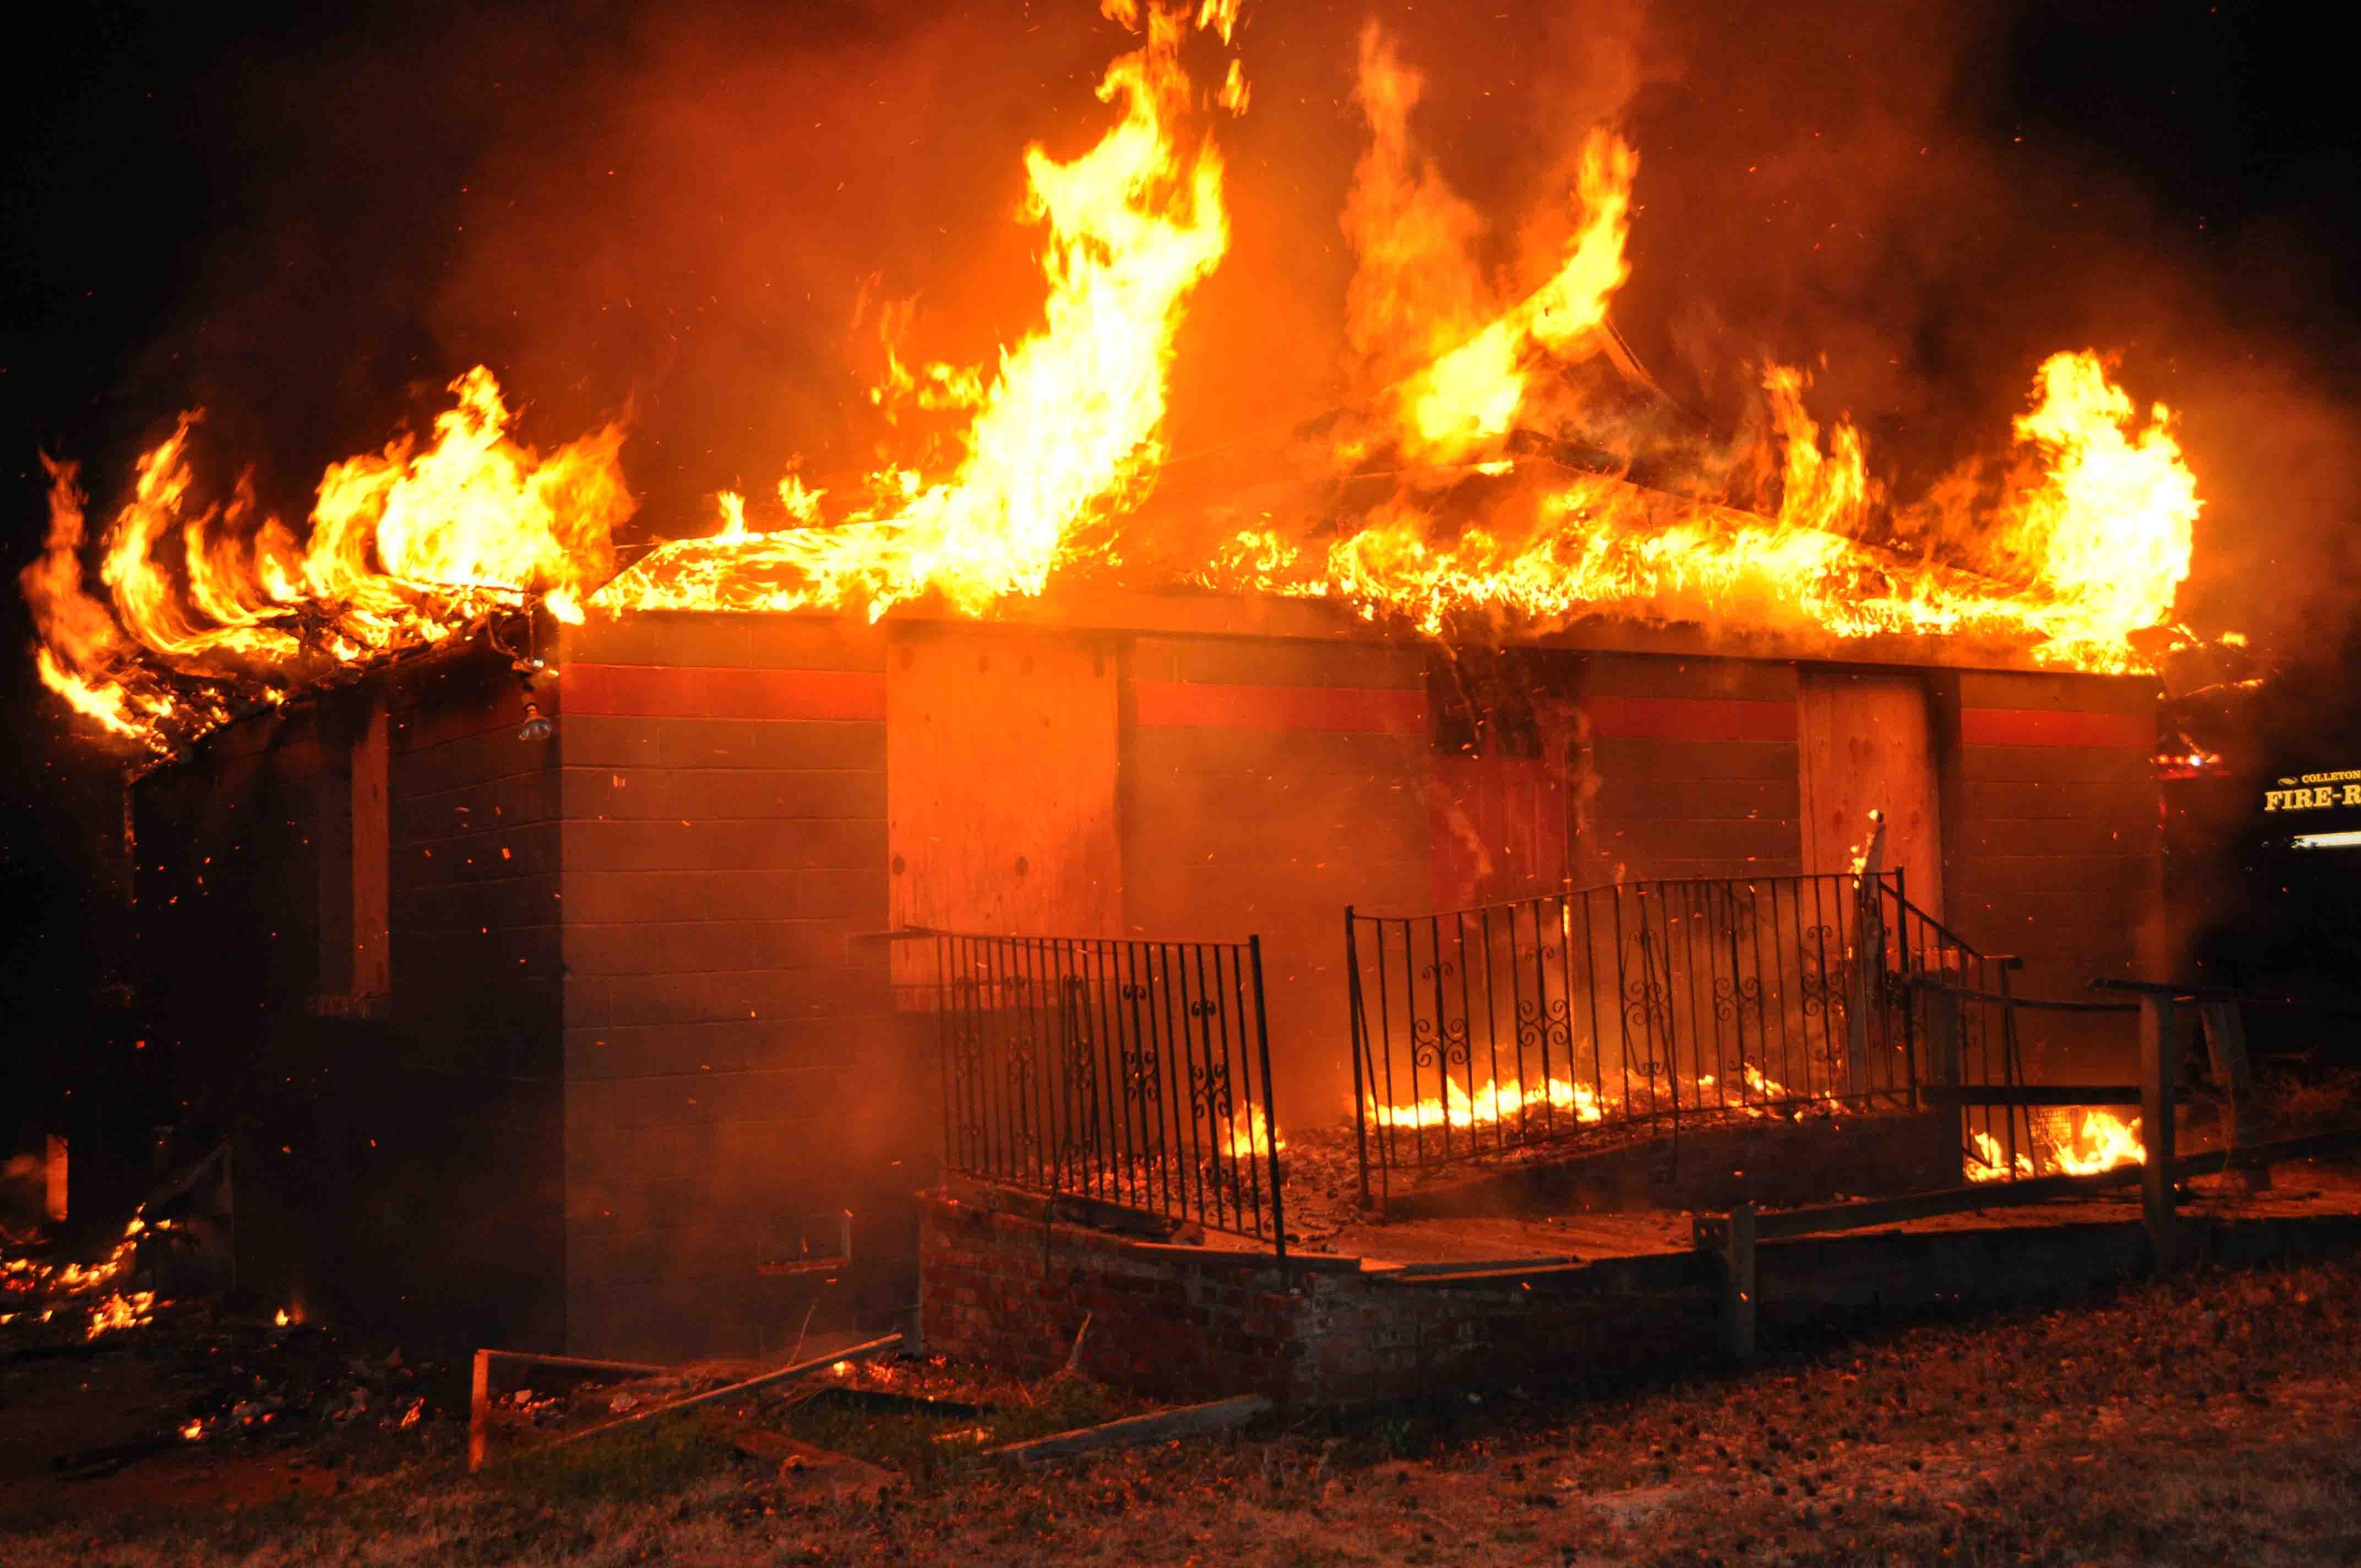Fire: (33, 24, 2259, 807)
